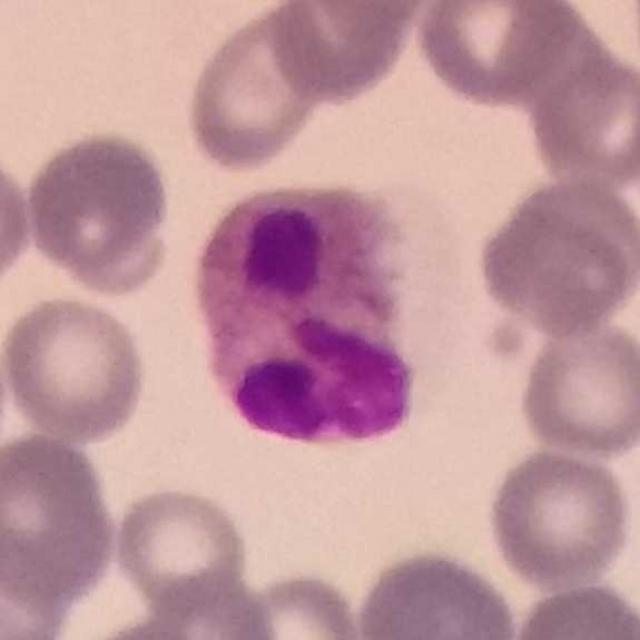Neutrophil: (192, 178, 438, 449)
RBC: (472, 172, 640, 338), (20, 126, 177, 298), (181, 0, 332, 177), (0, 289, 151, 445), (483, 443, 636, 592), (0, 428, 120, 609), (410, 0, 582, 111), (108, 482, 253, 613), (514, 316, 640, 461), (259, 0, 426, 109), (525, 49, 640, 194), (352, 544, 521, 640), (122, 566, 281, 640), (223, 567, 374, 640), (507, 579, 639, 640), (0, 544, 71, 640), (288, 0, 448, 39), (0, 141, 37, 304)
